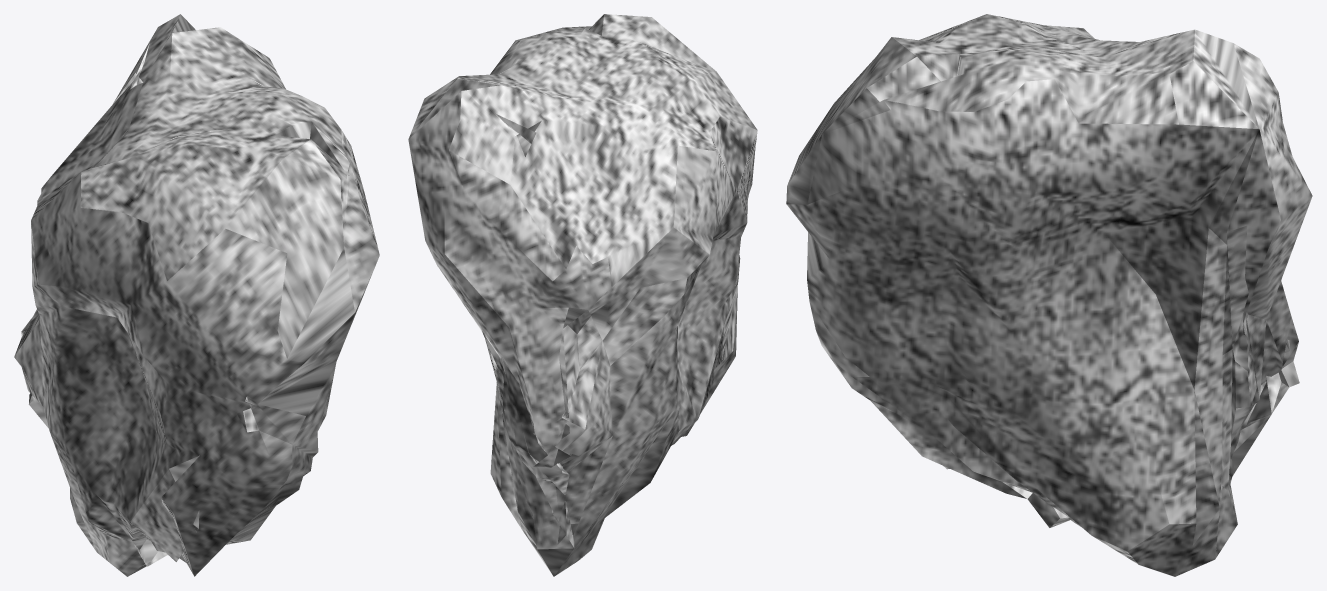
The model's file is Rock_Asset_15.fbx.
The picture shows the model from 3 angles, left to right: view 1: azimuth 30°, elevation 25°; view 2: azimuth 150°, elevation 25°; view 3: azimuth 270°, elevation 25°; orthographic projection. The views are drawn at different scales.
Parts seen in each view (by area): view 1: Rock_Asset; view 2: Rock_Asset; view 3: Rock_Asset.
Boxes of the visible parts, x1,y1,x2,y2 form: Rock_Asset: (14, 14, 379, 576); Rock_Asset: (408, 14, 757, 576); Rock_Asset: (786, 14, 1312, 576).
Bounding box in the file's own units: 1.11 × 2.02 × 1.68.
Materials: 1 (1 with a texture image).
